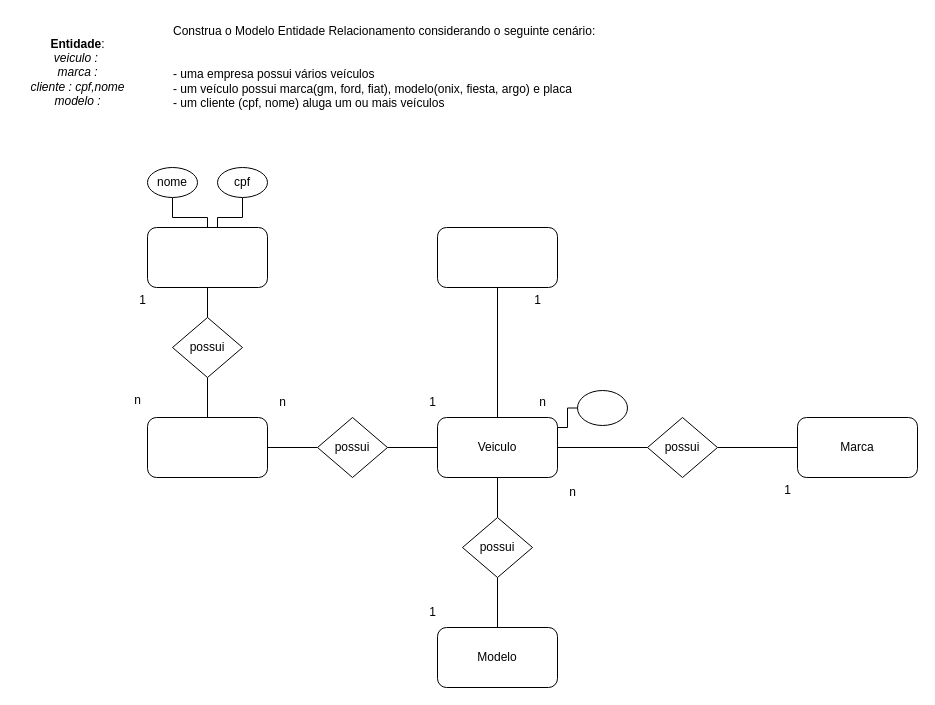
Some shapes in this 935 by 705 pixel diagram are drawn without their labels. The shapes that lost their labels are listed below. From the top down, each one's centre as x and y in pixels, then its label:
point 207,257: Cliente
point 497,257: empresa
point 602,408: placa
point 207,447: Aluguel
